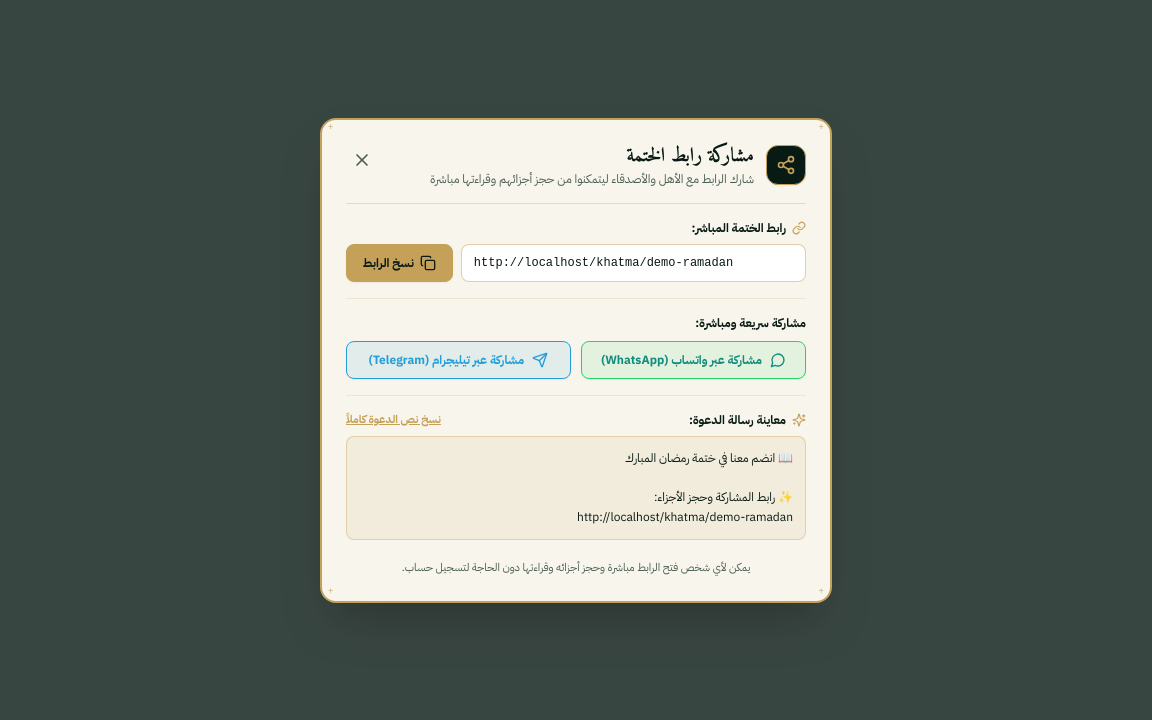
Scenario: ShareModal Component › copies the clean link and shows feedback when clicking copy button
Click the button with test id "share-modal-copy-btn" at (399, 262), box left=346, top=244, right=453, bottom=282
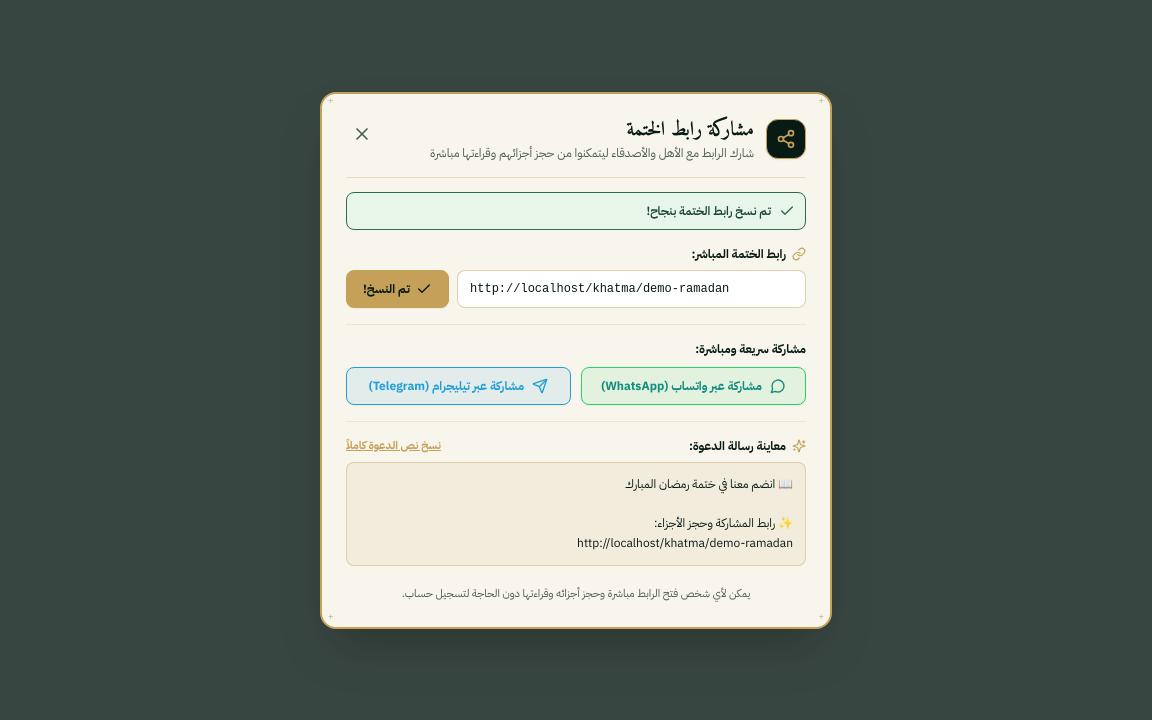
Now the text "تم النسخ!" is shown, box left=363, top=280, right=410, bottom=296
